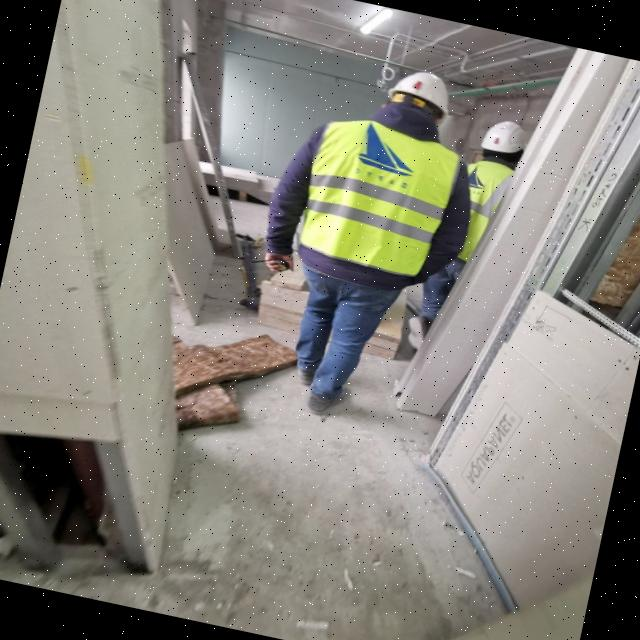Helmet: (382, 63, 459, 118), (477, 116, 531, 164)
Jacket: (305, 97, 456, 283), (451, 155, 509, 262)
